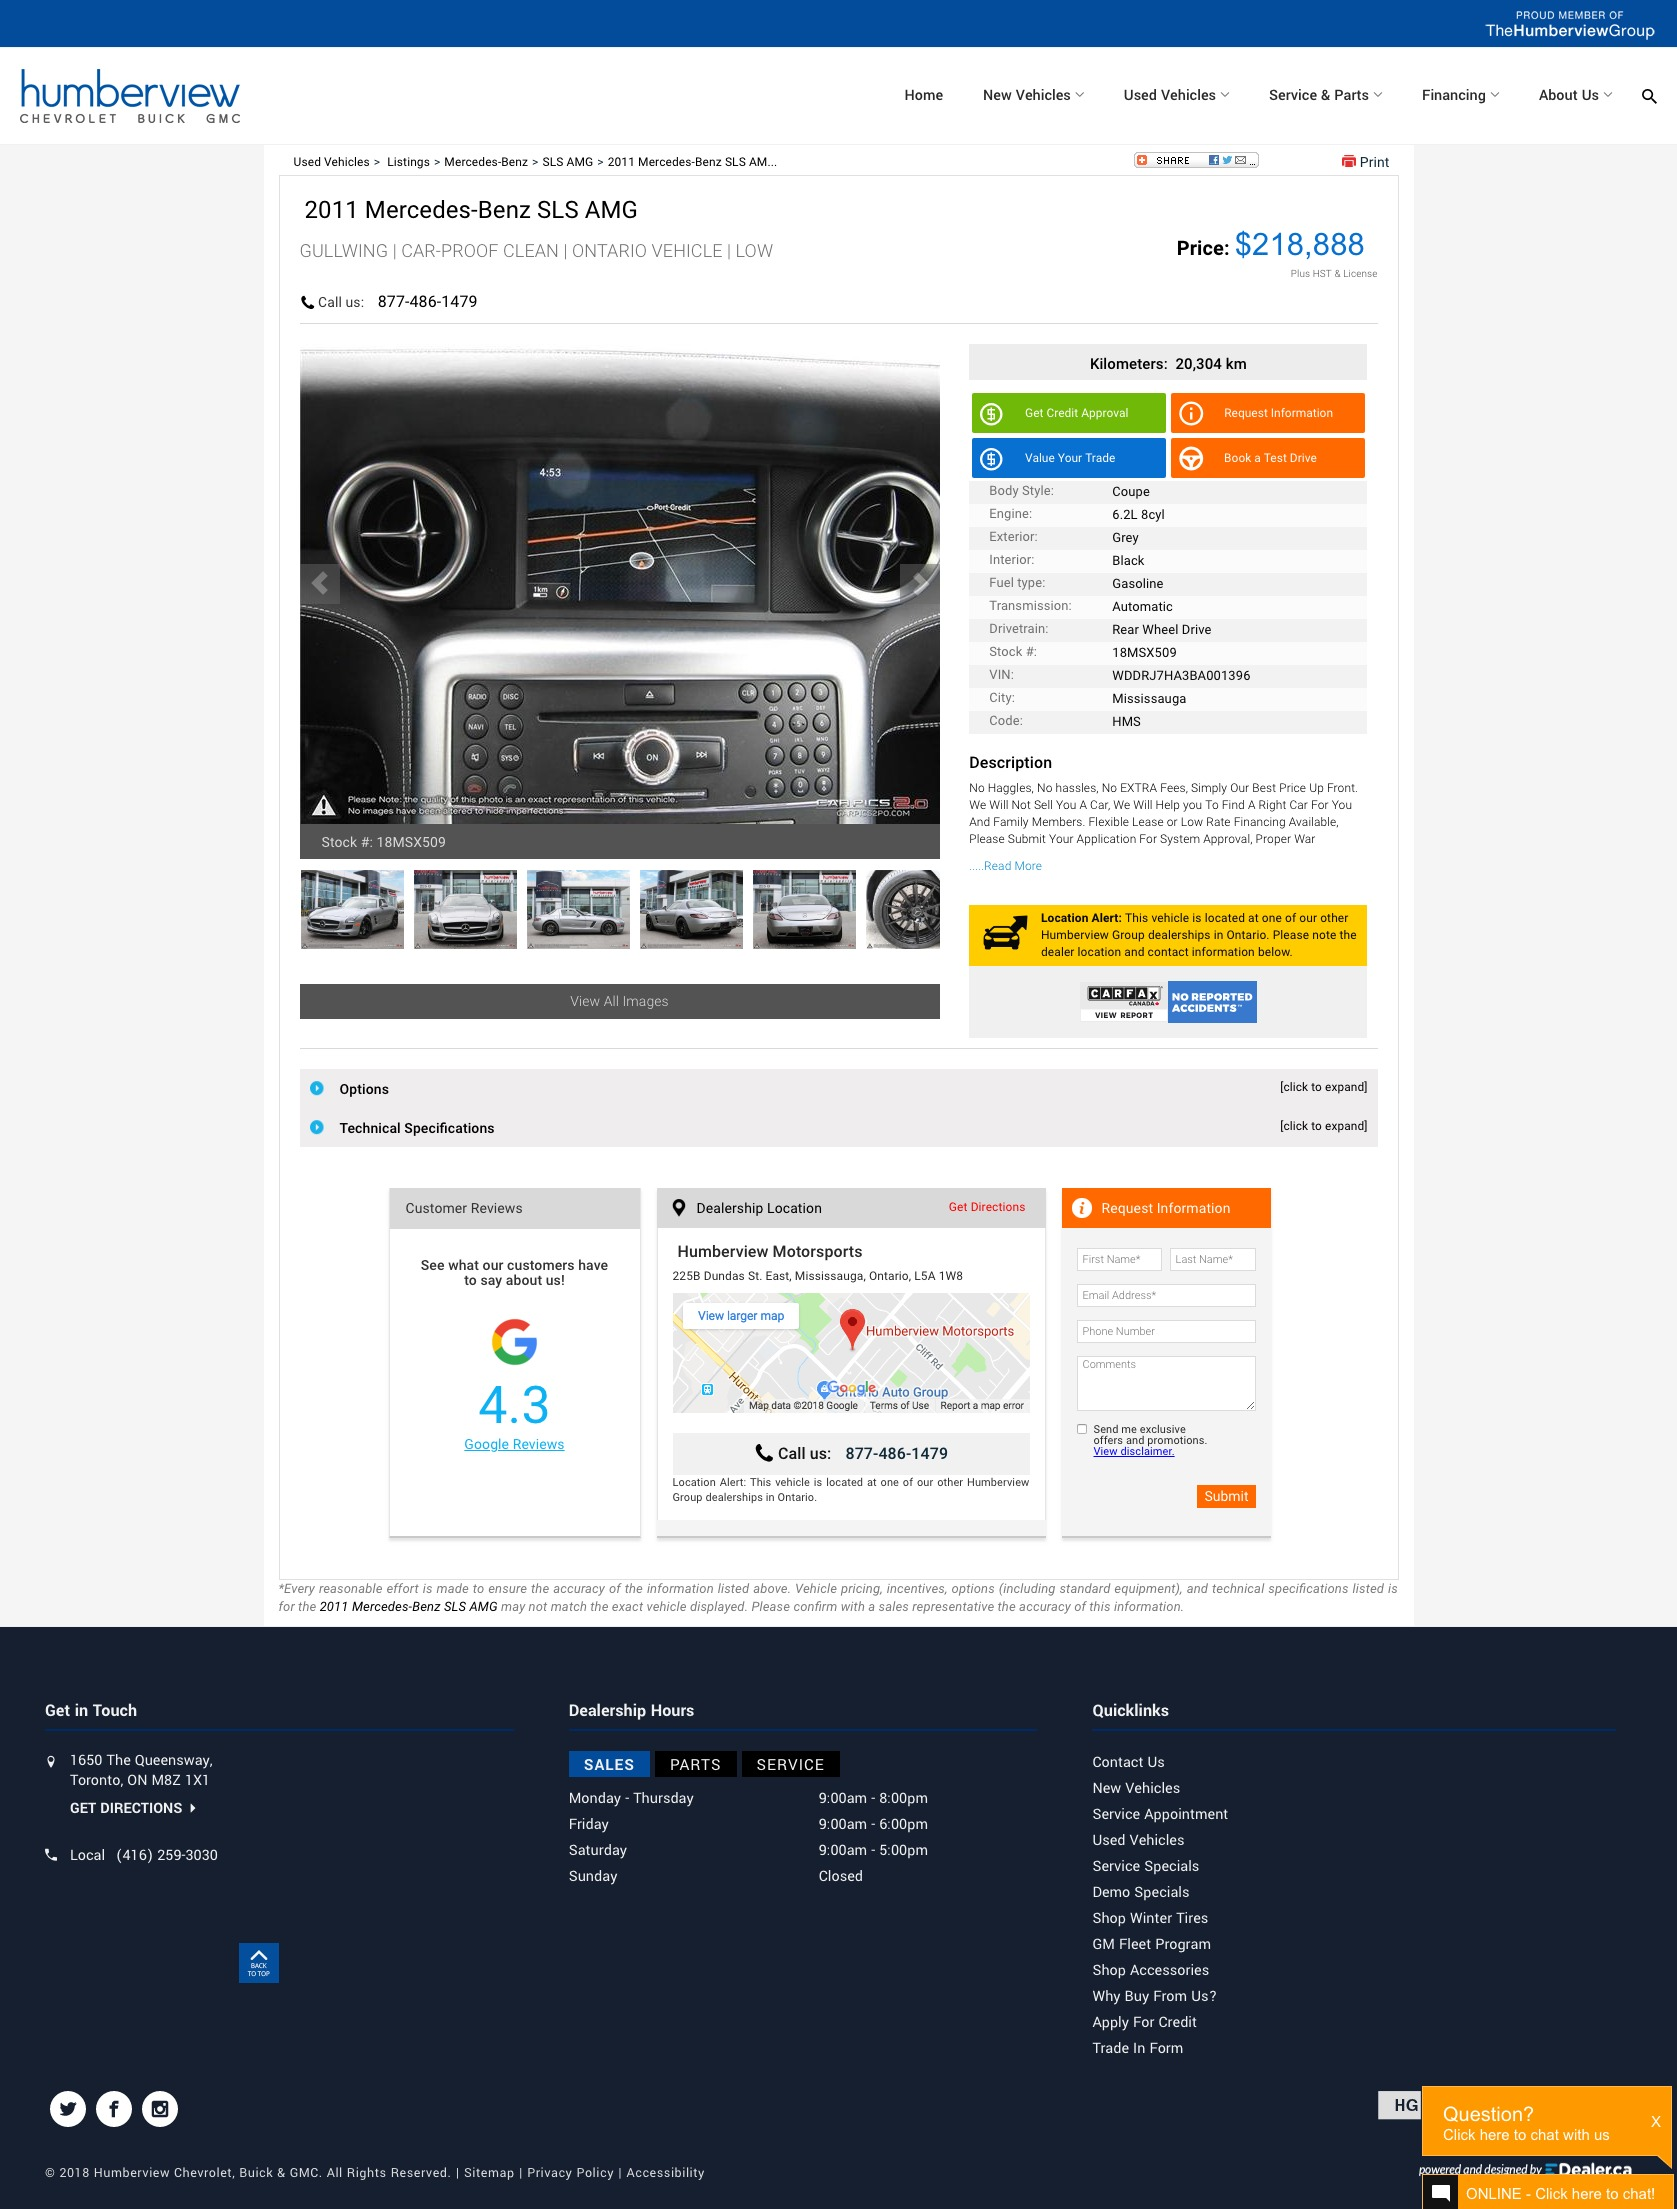car: (912, 573, 930, 597)
